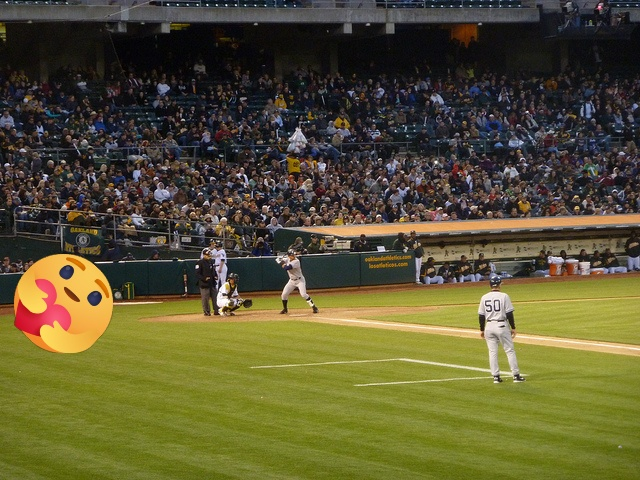care: (14, 254, 113, 353)
